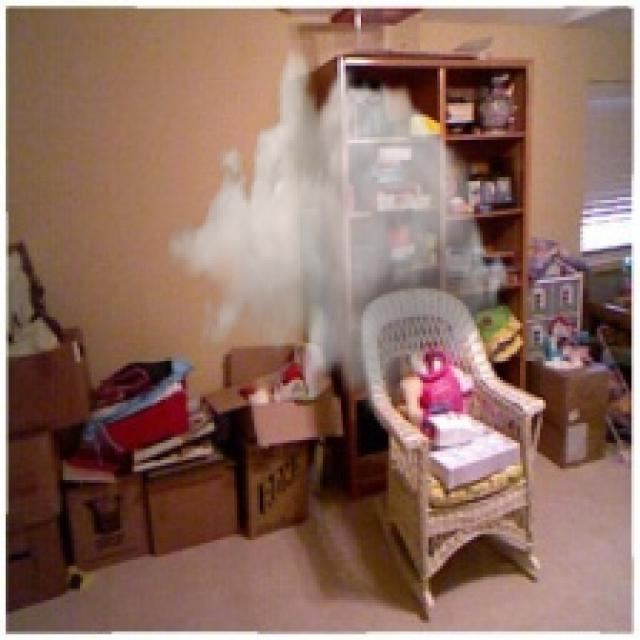smoke: (166, 43, 511, 420)
